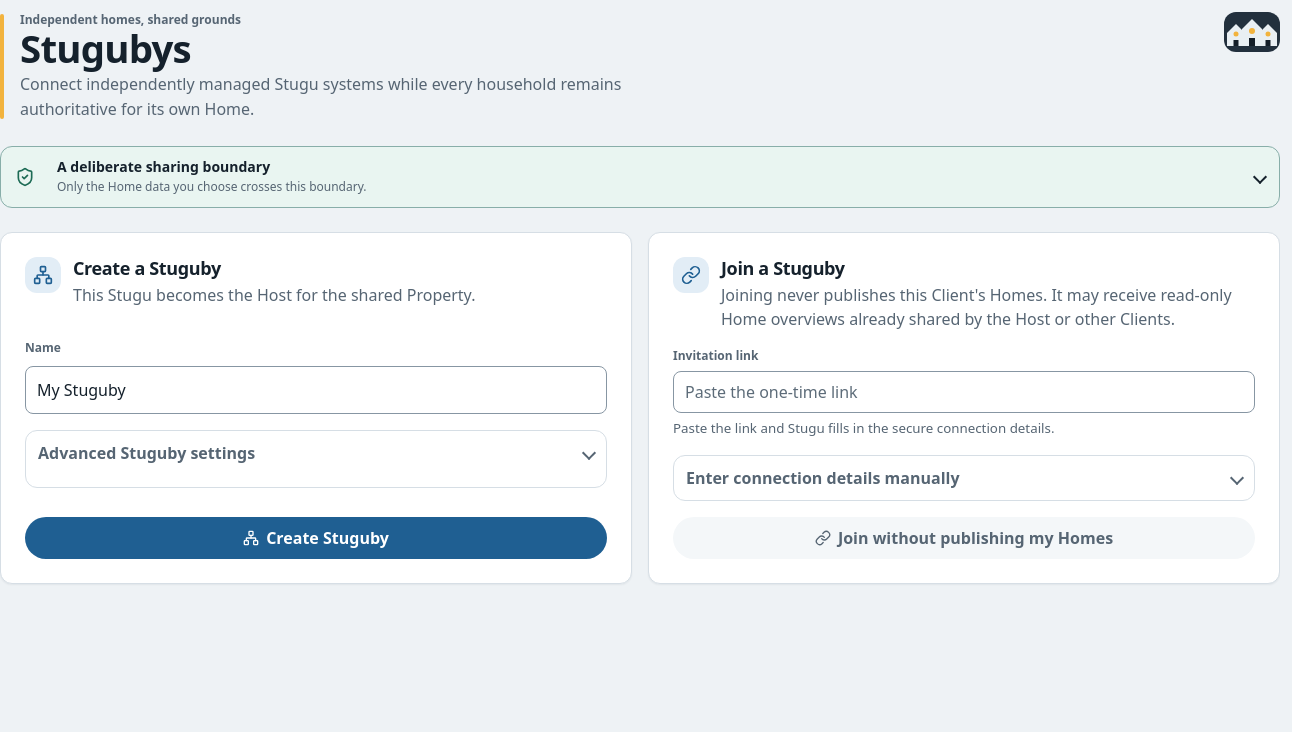
Test: StugubyPage › keeps the deliberate federation boundary explicit but calm before onboarding
What coordinates should you click on to do the following:
click the text "A deliberate sharing boundary"
I would click on:
 (164, 166)
Its box is x1=57 y1=157 x2=270 y2=176.
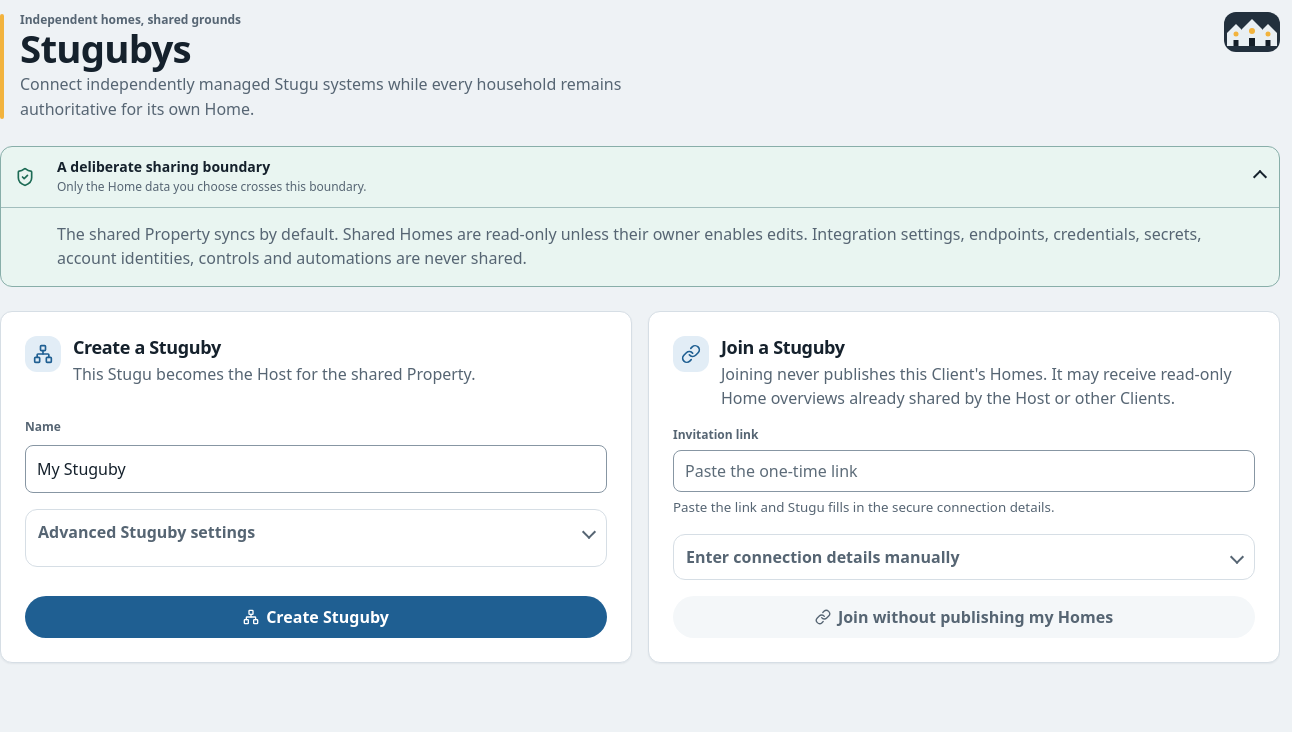
expect the button "Join without publishing my Homes" is shown: met, box x1=673 y1=596 x2=1255 y2=638
expect the text "Integration settings, endpoints, credentials, secrets, account identities, controls and automations are never shared" is shown: met, box x1=57 y1=223 x2=1201 y2=269
